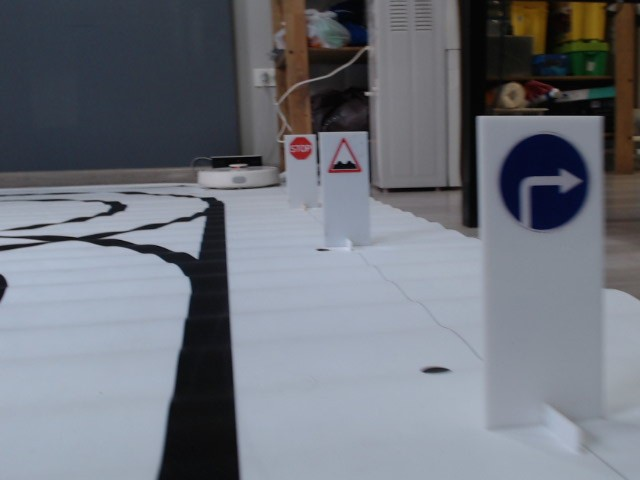Nerov: (326, 138, 363, 175)
Right: (498, 133, 591, 232)
Stop: (287, 136, 312, 160)
